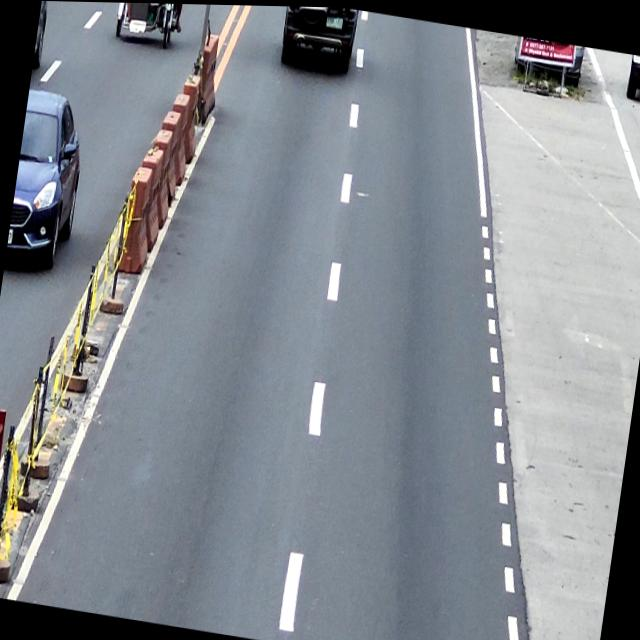Car: (5, 88, 93, 275), (278, 5, 358, 73)
License-Plate: (325, 14, 343, 28)
Tricycle: (114, 2, 183, 47)
